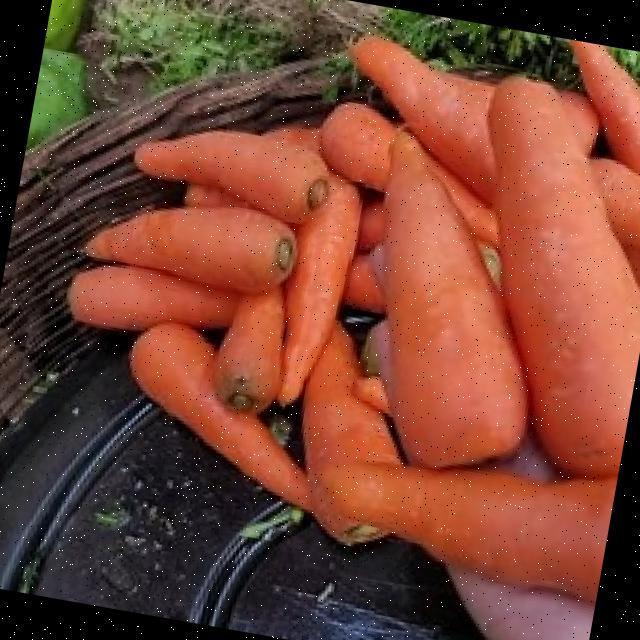carrot: (68, 34, 640, 594)
